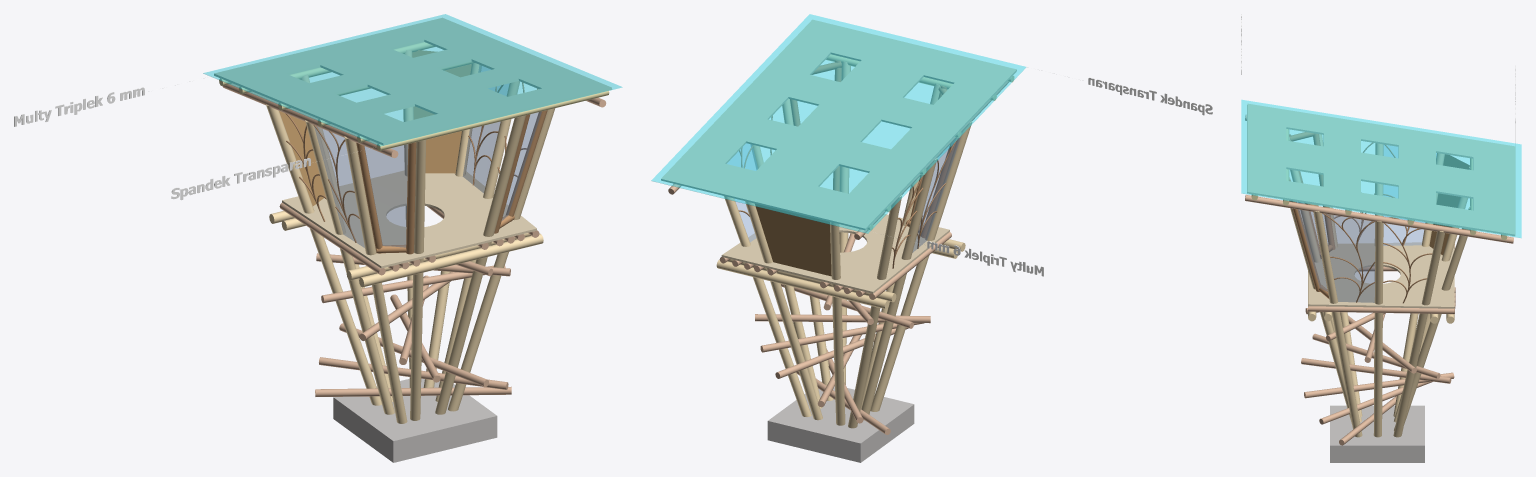
The picture shows the model from 3 angles, left to right: view 1: azimuth 30°, elevation 25°; view 2: azimuth 150°, elevation 25°; view 3: azimuth 270°, elevation 25°; orthographic projection. The views are drawn at different scales.
Parts seen in each view (by area): view 1: Group46, Group45, Group42, Group44, Group53, Group17, Group12, Group11, Group10, Group16, Group15, Group65 (+21 smaller); view 2: Group46, Group45, Group44, Group42, Group67, Group10, Group11, Group19, Group12, Group18, Group13, Group22 (+13 smaller); view 3: Group46, Group45, Group42, Group44, Group62, Group15, Group14, Group7, Group13, Group19, Group76, Group60 (+19 smaller).
Part boxes in pixels (x1,y1,x2,y2): Group46: (203,14,622,146); Group45: (214,17,611,145); Group42: (282,170,536,268); Group44: (333,372,497,462); Group53: (364,144,408,247); Group17: (435,115,525,414); Group12: (266,104,381,405); Group11: (305,120,394,414); Group10: (344,136,407,423); Group16: (410,140,426,420); Group15: (448,108,555,411); Group65: (314,126,364,247); Group46: (651,14,1026,233); Group45: (661,19,1016,230); Group44: (767,381,914,462); Group42: (721,214,949,293); Group67: (755,203,831,276); Group10: (870,121,972,411); Group11: (861,158,937,420); Group19: (745,201,822,420); Group12: (848,195,902,428); Group18: (830,222,845,425); Group13: (724,196,811,416); Group22: (716,260,889,309); Group46: (1241,100,1521,237); Group45: (1247,103,1515,236); Group42: (1308,242,1454,308); Group44: (1330,405,1424,462); Group62: (1322,213,1375,302); Group15: (1313,211,1362,437); Group14: (1373,221,1383,437); Group7: (1245,195,1513,243); Group13: (1393,231,1444,437); Group19: (1394,207,1469,430); Group76: (1383,145,1436,245); Group60: (1296,201,1327,291).
Size of the model in its own units: 651 by 528 by 443.
